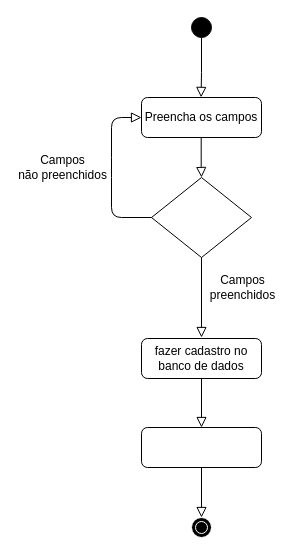
Image size: 292x555. Some labels were removed from this diagram. The shapes that lost their labels are listed below. From the top down, each one's centre as x and y in pixels, then its label:
At (x=201, y=217): "Verificar campos obrigatórios".
At (x=201, y=447): "Atualizar tabelas".
